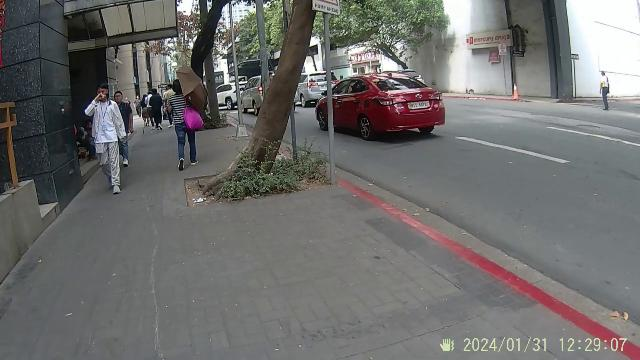car: (316, 68, 450, 144)
street_sign: (313, 0, 353, 200)
tree: (196, 0, 320, 204)
